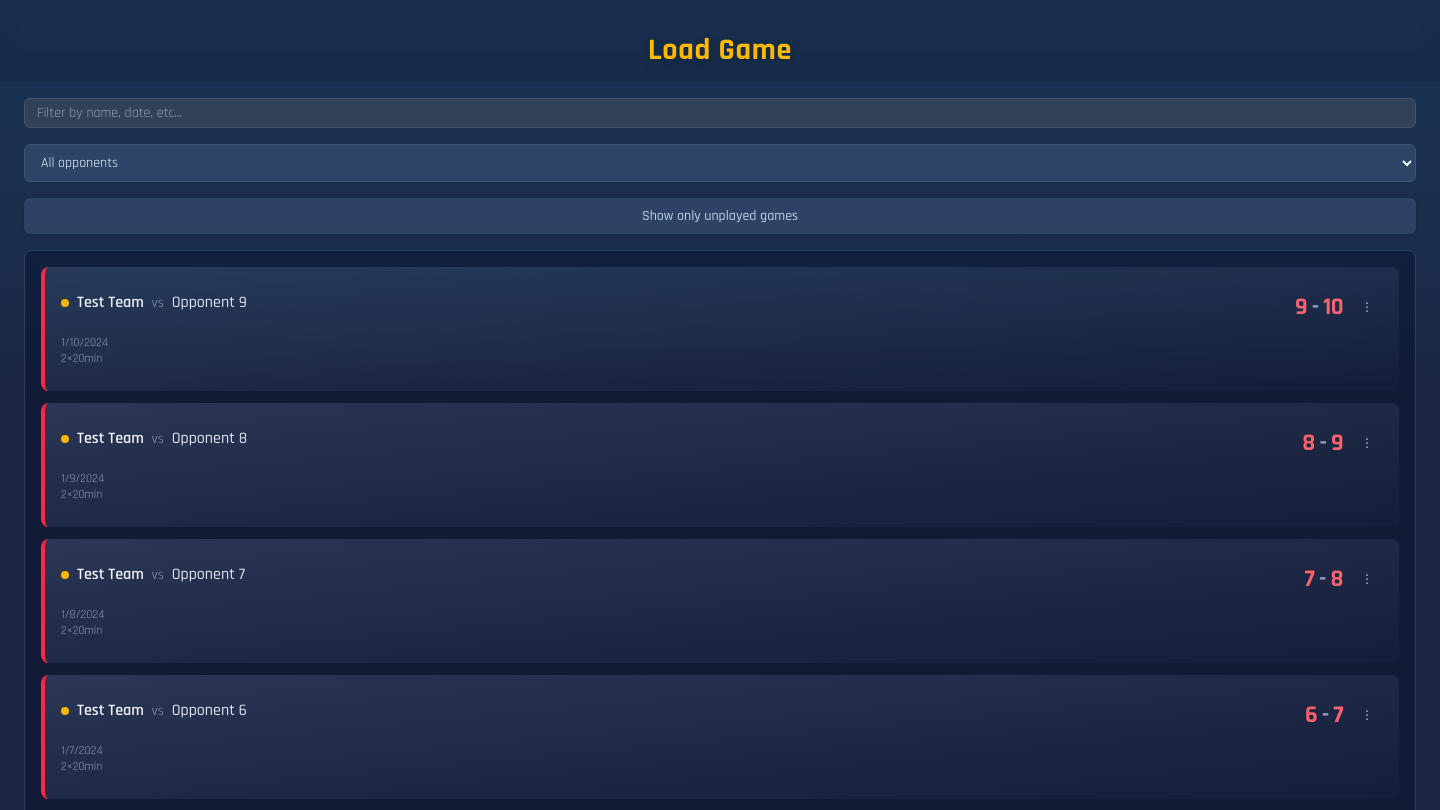
Test: LoadGameModal dropdown positioning › should calculate position independently for different game items
Note: Open first menu (should open downward)
Click the button named "Game actions" in the row of "Opponent 9" at (1367, 306), box [1351,290,1383,322]
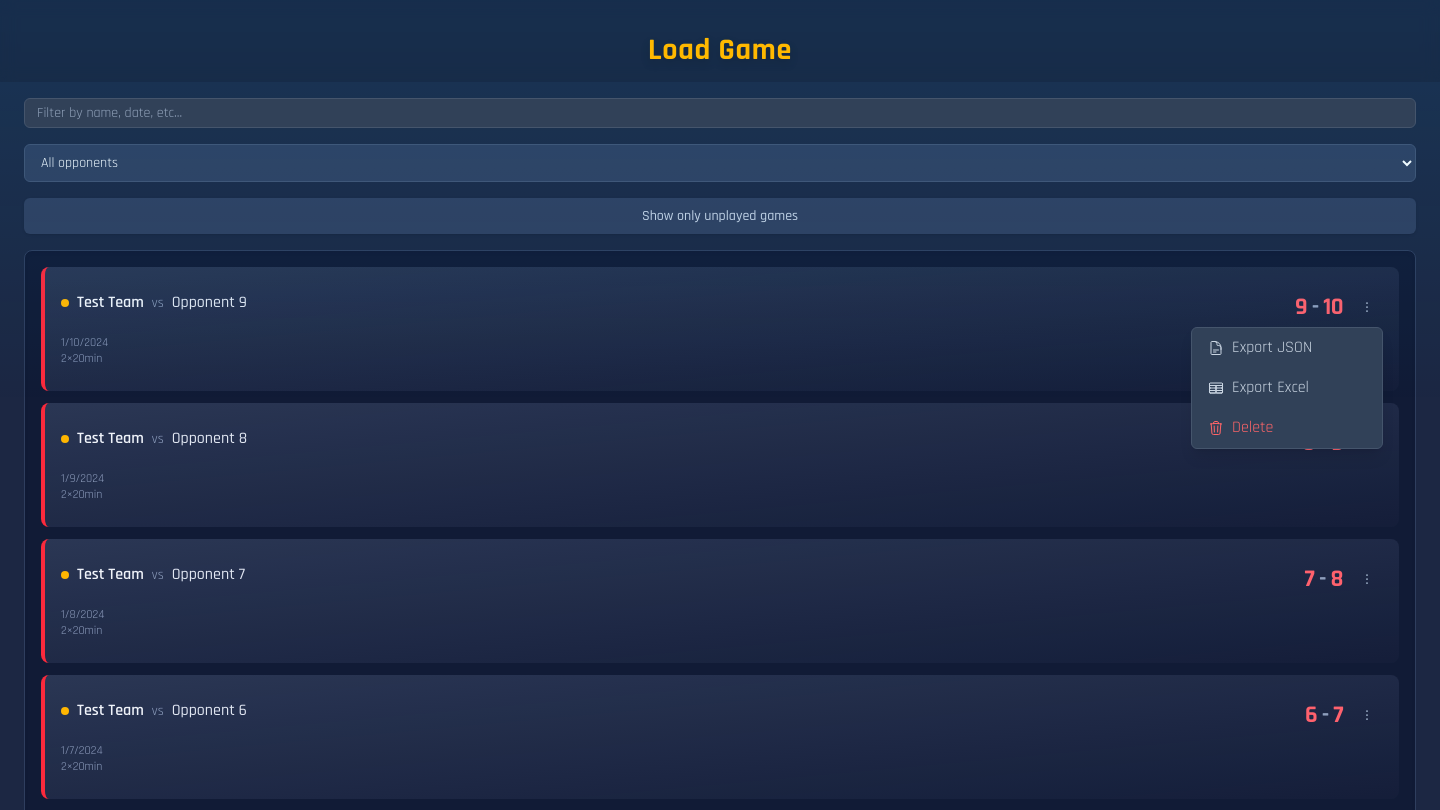
Check: the menu item "Export JSON" is shown, box [1192,328,1382,368]
Note: Close menu by clicking button again
Click the button named "Game actions" in the row of "Opponent 9" at (1367, 306), box [1351,290,1383,322]
(page scrolled)
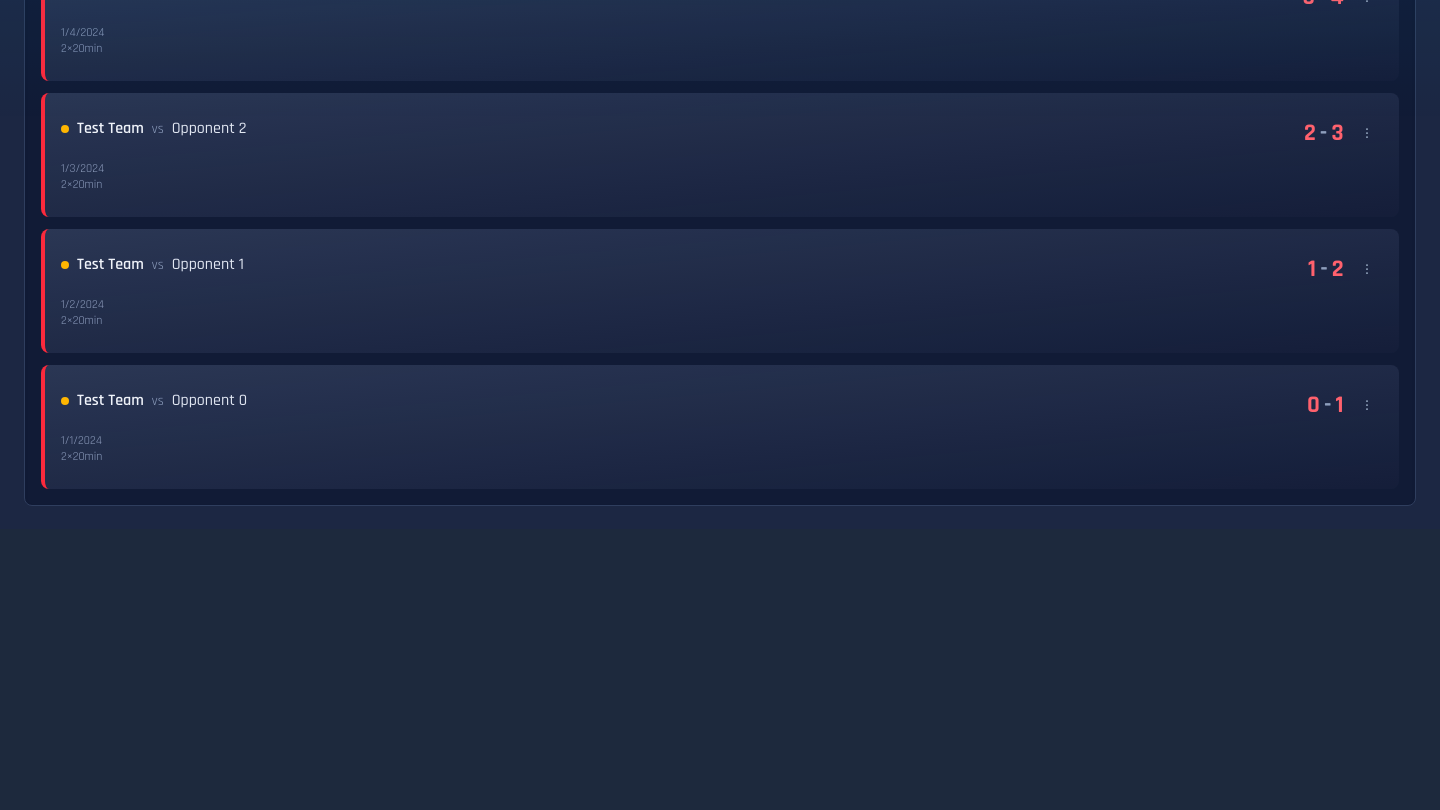
Check: the menu item "Export JSON" is gone
Note: Open last menu (should open upward)
Click the button named "Game actions" in the row of "Opponent 0" at (1367, 404), box [1351,388,1383,420]
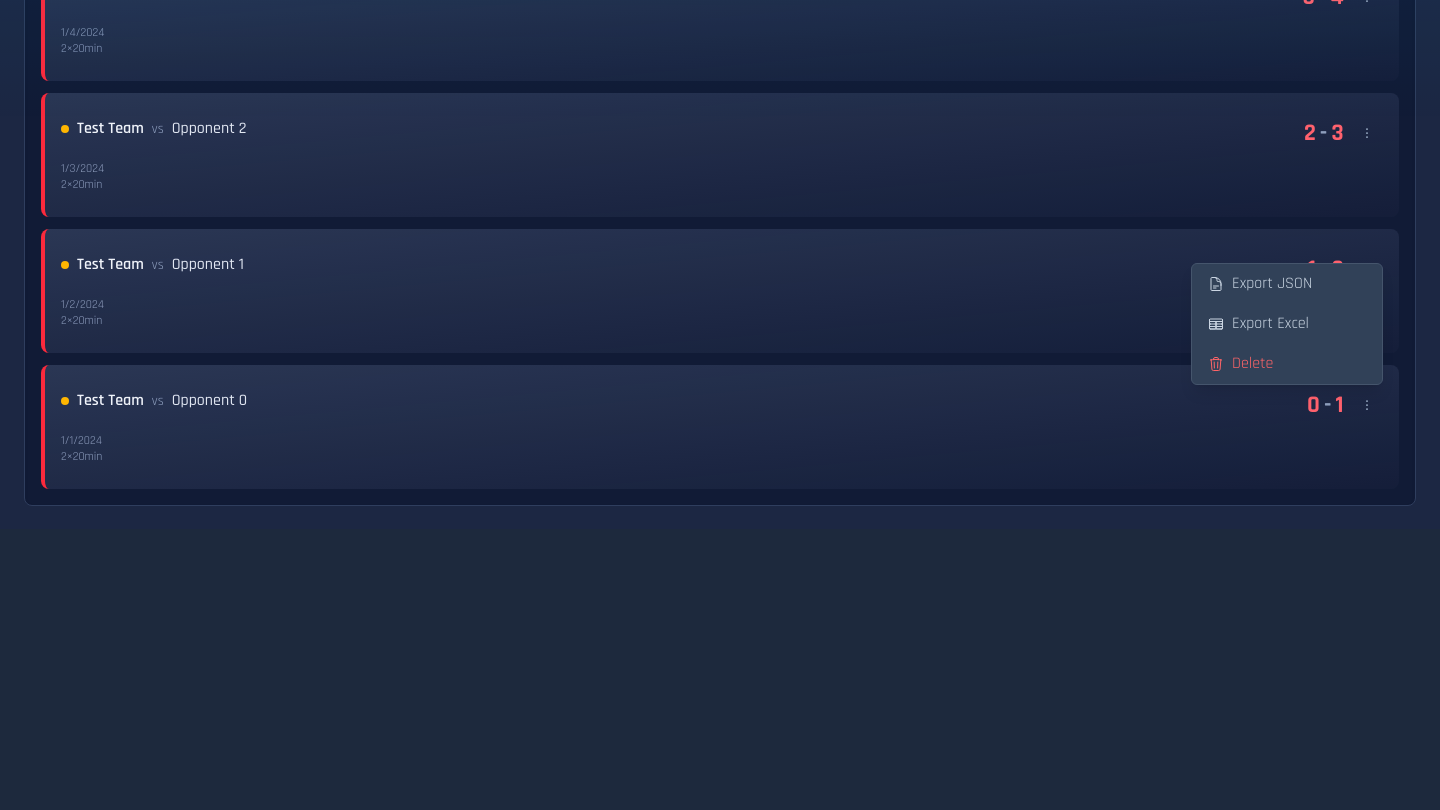
Check: the menu item "Export JSON" is shown, box [1192,264,1382,304]
